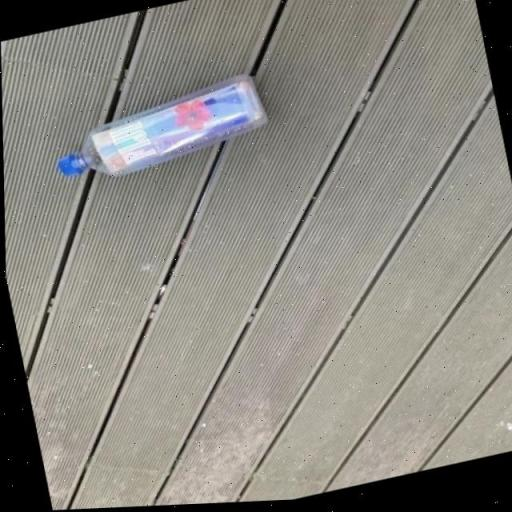plastic: (47, 70, 277, 190)
